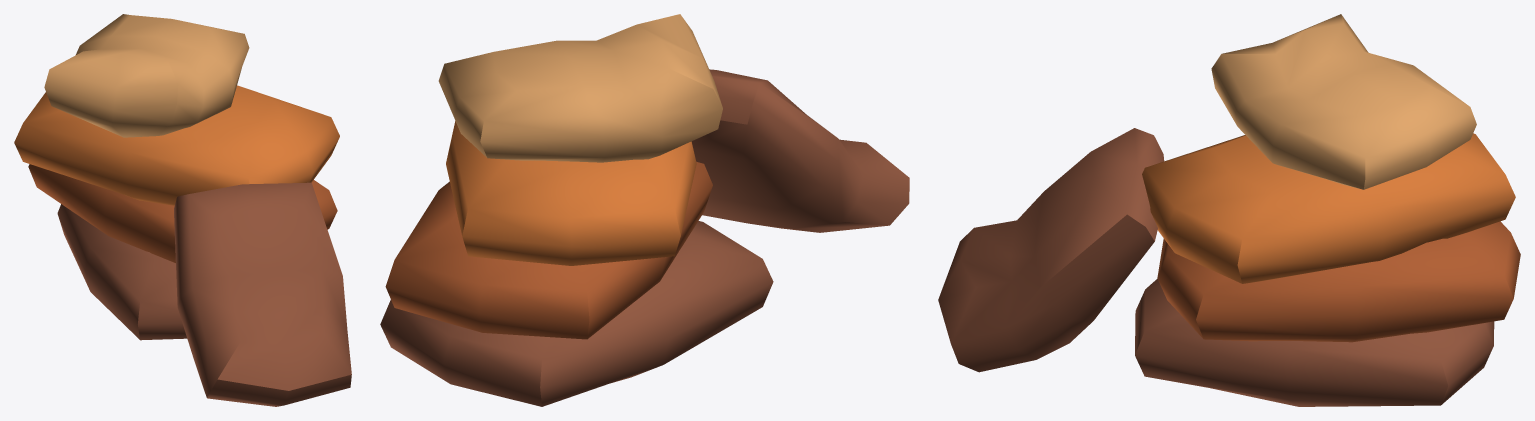
Rendered from sack.fbx.
3 views of the same model, side by side, from view 1: azimuth 30°, elevation 25°; view 2: azimuth 150°, elevation 25°; view 3: azimuth 270°, elevation 25° (orthographic). The views are drawn at different scales.
Parts seen in each view (by area): view 1: sack; view 2: sack; view 3: sack.
Part boxes in pixels (x1,y1,x2,y2): sack: [14, 14, 351, 406]; sack: [380, 14, 909, 406]; sack: [938, 14, 1520, 406].
Bounding box in the file's own units: 145 × 146 × 247.
